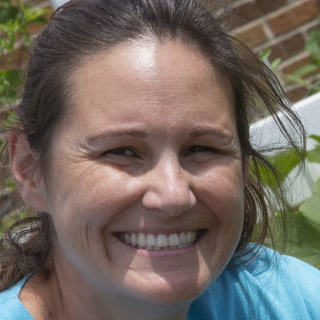eye: (95, 139, 147, 165), (178, 140, 224, 163)
